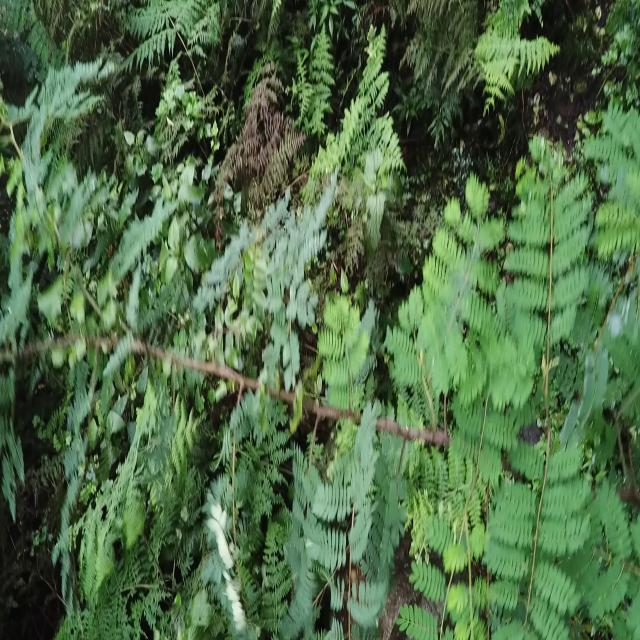Mysore-Thorn-Weed: (17, 160, 640, 639)
